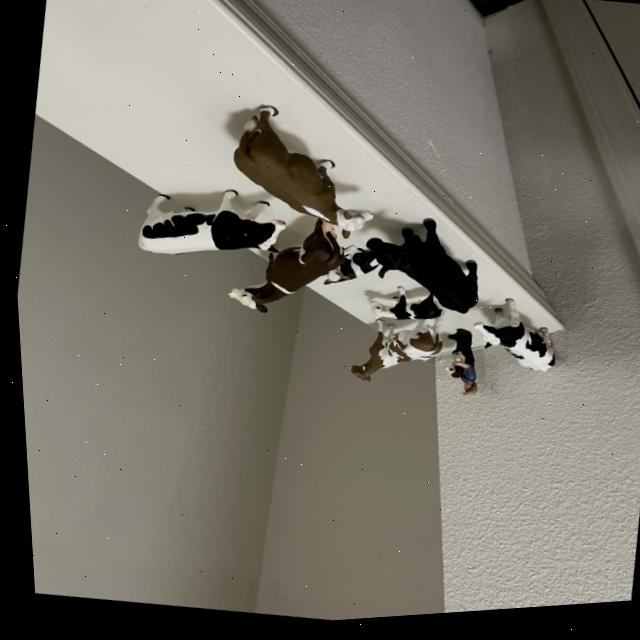cow: (218, 105, 379, 263), (352, 203, 498, 330), (217, 220, 348, 328), (344, 305, 444, 400), (135, 193, 283, 256), (466, 298, 564, 393), (314, 251, 377, 296), (368, 290, 439, 328), (441, 370, 464, 386), (448, 358, 459, 369)
person: (446, 334, 472, 402)
